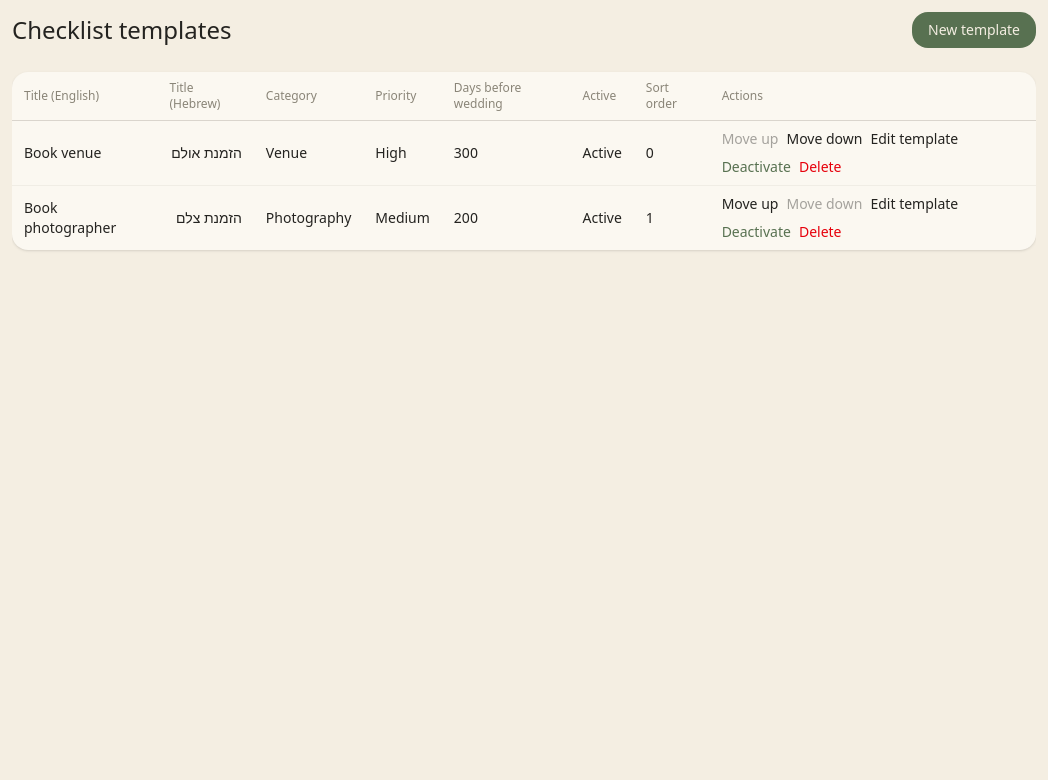
Test case: TemplatesAdmin › blocks submission and shows an error when the Hebrew title is left empty
The width and height of the screenshot is (1048, 780).
Step 1. Click the button "New template" → (974, 30), box left=912, top=12, right=1036, bottom=48
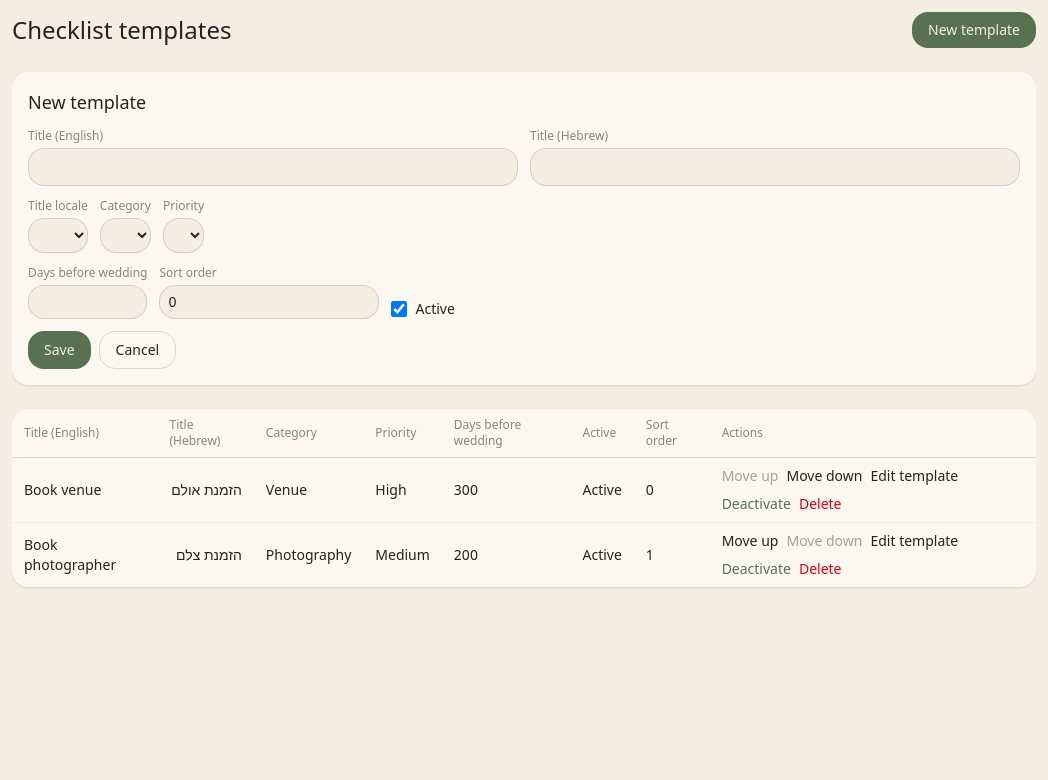
Step 2. Type "Book florist" into the field labelled "Title (English)" → (273, 167), box left=28, top=148, right=518, bottom=186
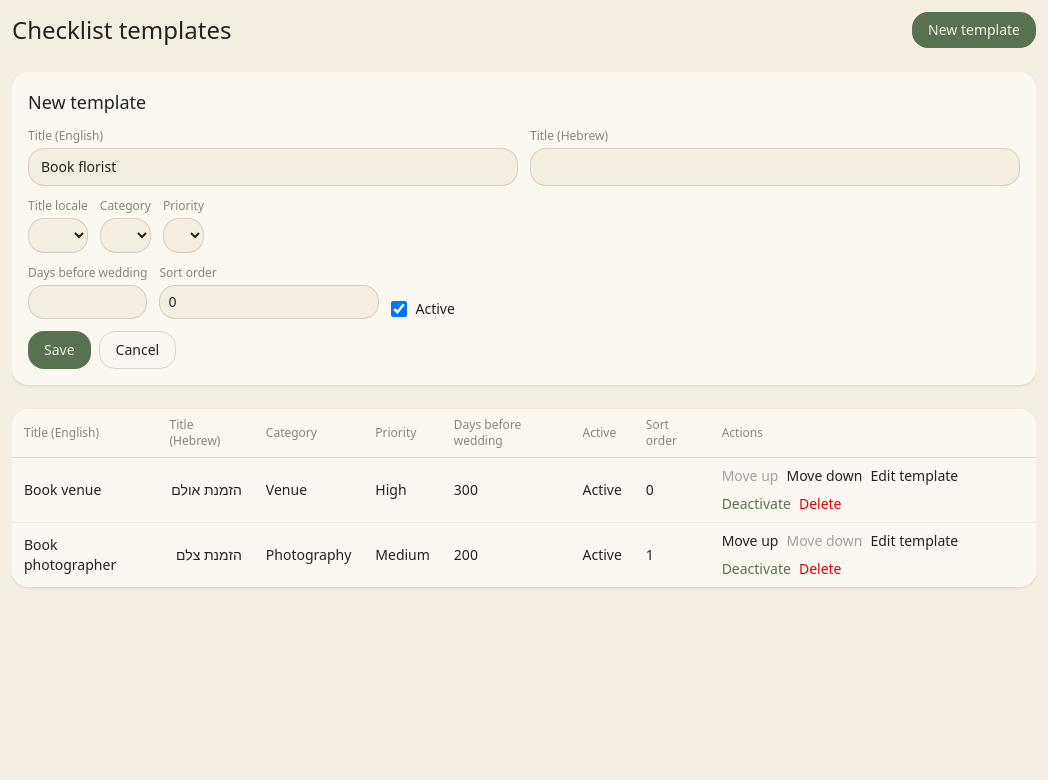
Step 3. Click the button "Save" → (59, 350), box left=28, top=331, right=91, bottom=369
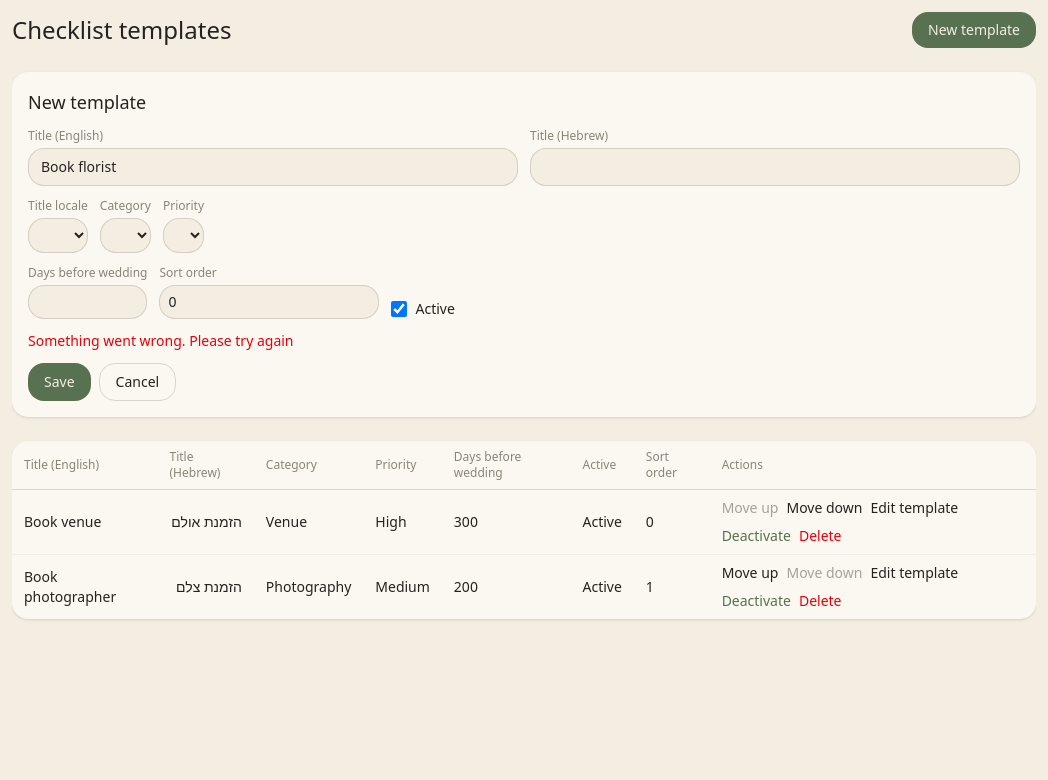
Now the text "Something went wrong. Please try again" is shown, box left=28, top=331, right=294, bottom=350
